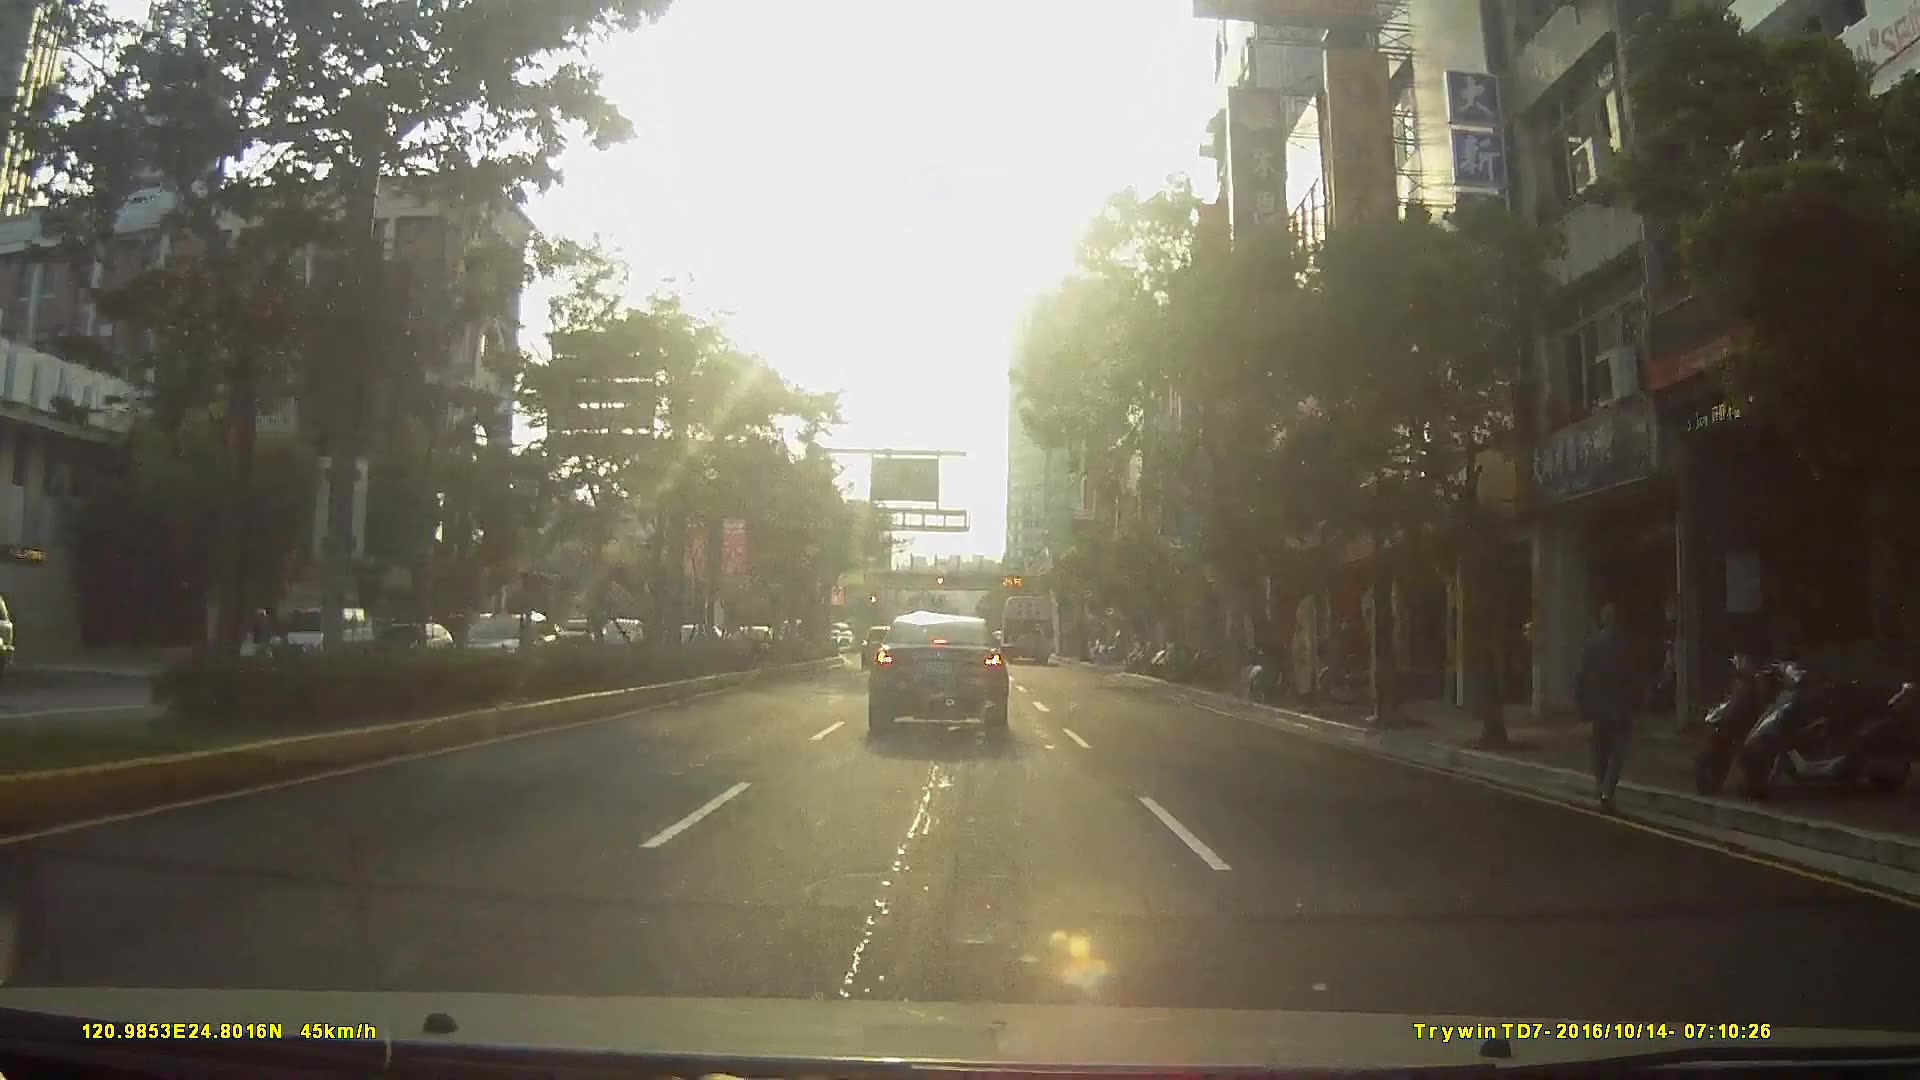pedestrian: (1581, 599, 1645, 810)
vehicle: (865, 610, 1010, 735), (264, 605, 368, 669), (997, 592, 1055, 660), (860, 623, 899, 664)
